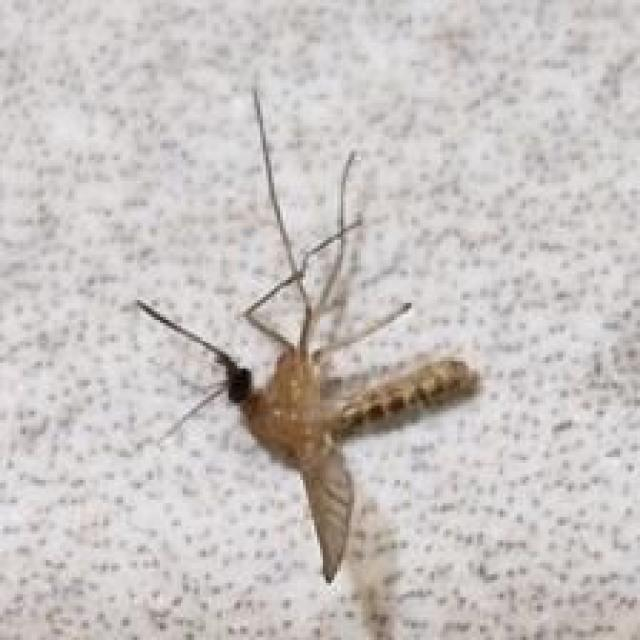Culex: (133, 85, 481, 584)
